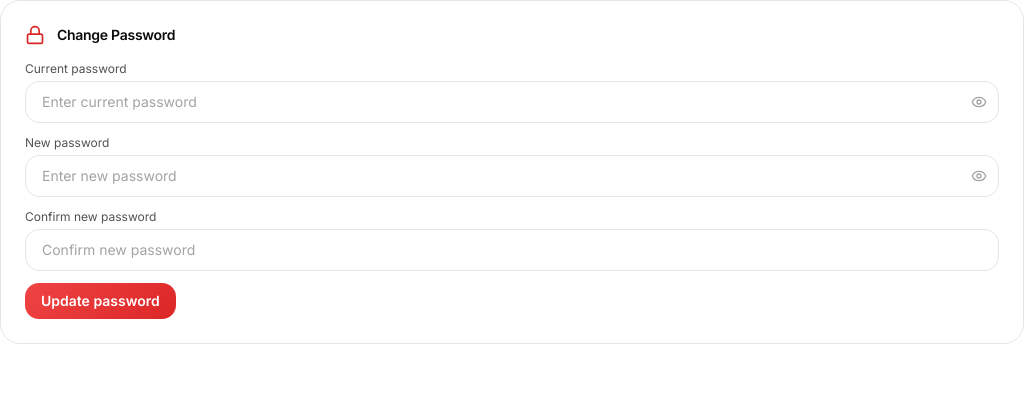
Scenario: ChangePasswordForm › submits, shows success and redirects to login
The width and height of the screenshot is (1024, 409).
Step 1. Type "old-password" into the password field with placeholder "Enter current password" → (512, 102), box [25,81,999,123]
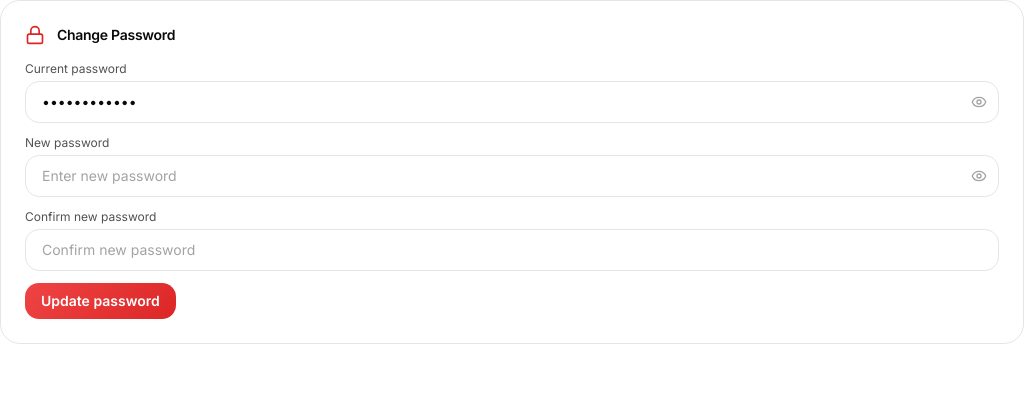
Step 2. Type "Abcdefgh123!" into the password field with placeholder "Enter new password" → (512, 176), box [25,155,999,197]
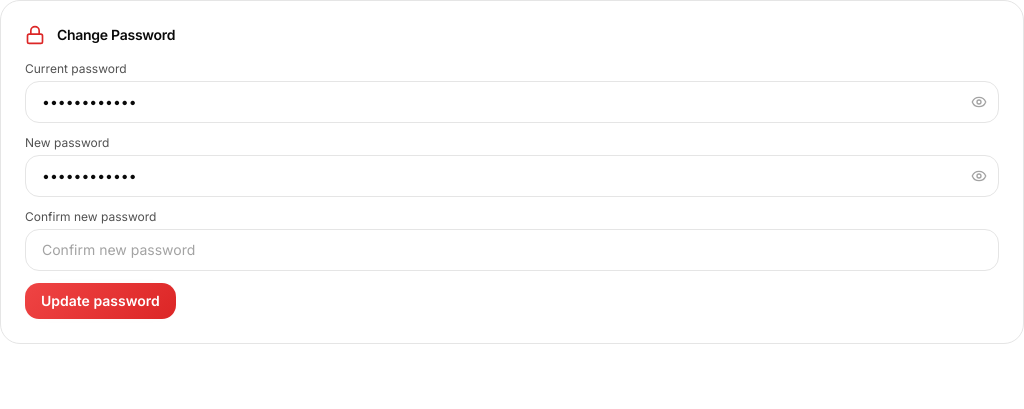
Step 3. Type "Abcdefgh123!" into the password field with placeholder "Confirm new password" → (512, 250), box [25,229,999,271]
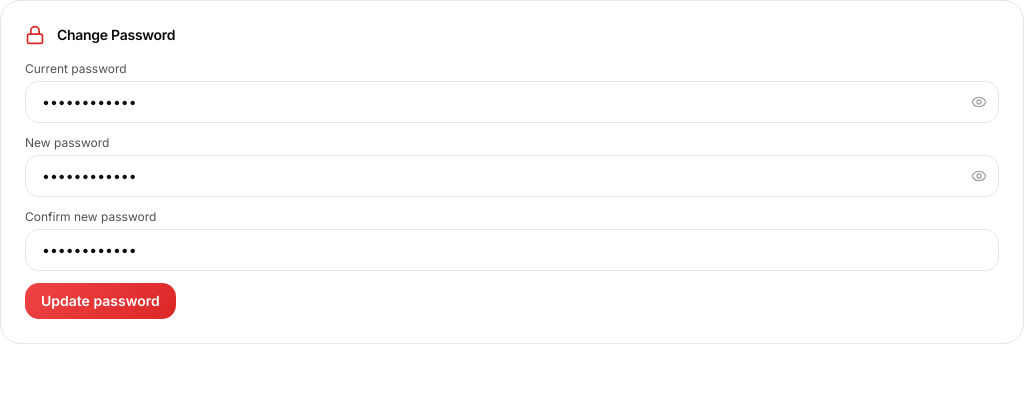
Step 4. Click the button "Update password" → (100, 301), box [25,283,176,319]
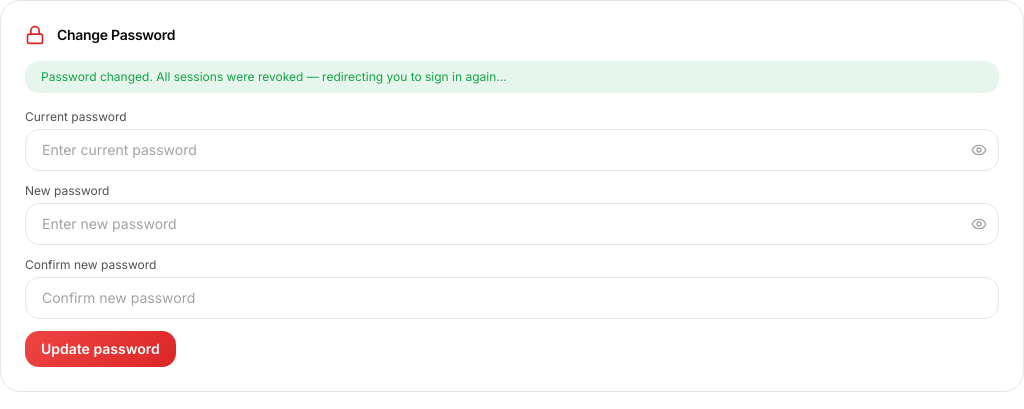
Check: the text "Password changed. All sessions were revoked — redirecting you to sign in again..." is shown, box [41,69,507,84]
